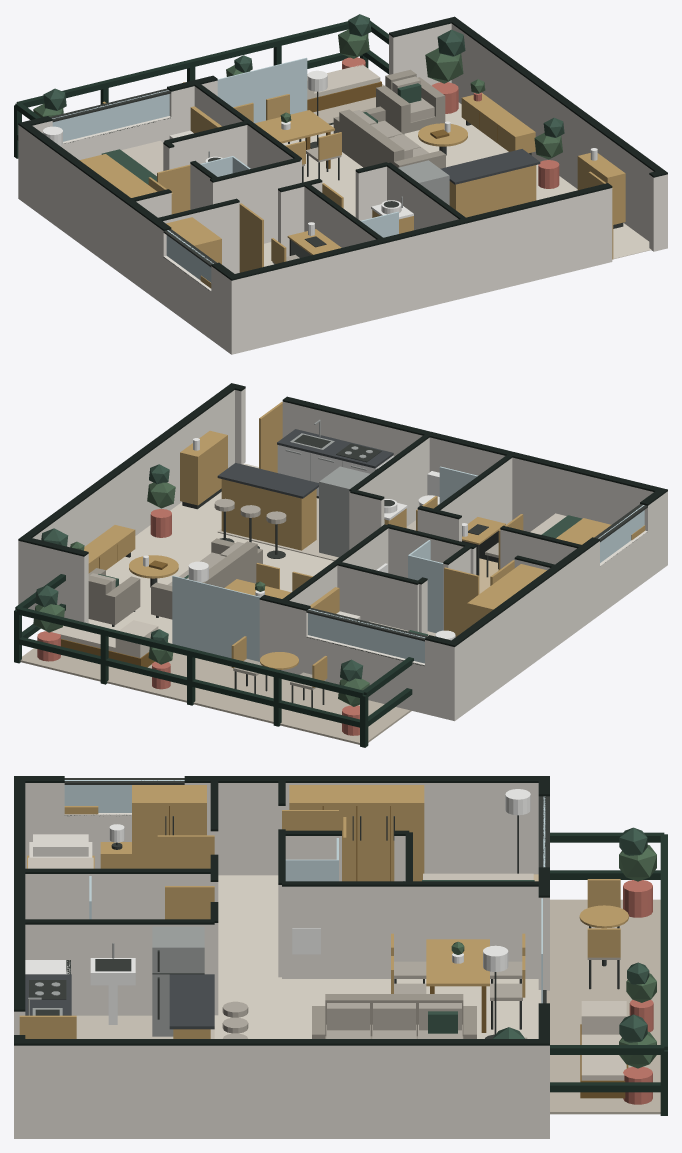
The model's file is interior-tipo-a-simples.glb.
The picture shows the model from 3 angles, top to bottom: view 1: azimuth 30°, elevation 25°; view 2: azimuth 150°, elevation 25°; view 3: azimuth 270°, elevation 25°; orthographic projection. The views are drawn at different scales.
Parts seen in each view (by area): view 1: VIS__INTA_PAREDE, VIS__INTA_MADEIRA, VIS__INTA_CORTE, VIS__INTA_VIDRO, VIS__INTA_PISO, VIS__INTA_ESTOFADO, VIS__INTA_GUARDACORPO, VIS__INTA_SALVIA, VIS__INTA_FOLHA, VIS__INTA_ESCURO, VIS__INTA_TECIDO2, VIS__INTA_ESTOFADO2 (+6 smaller); view 2: VIS__INTA_PAREDE, VIS__INTA_MADEIRA, VIS__INTA_VIDRO, VIS__INTA_CORTE, VIS__INTA_GUARDACORPO, VIS__INTA_VARANDA, VIS__INTA_PISO, VIS__INTA_ESTOFADO, VIS__INTA_ESCURO, VIS__INTA_BRANCO, VIS__INTA_INOX, VIS__INTA_BANCADA (+7 smaller); view 3: VIS__INTA_PAREDE, VIS__INTA_MADEIRA, VIS__INTA_CORTE, VIS__INTA_PISO, VIS__INTA_VARANDA, VIS__INTA_ESTOFADO2, VIS__INTA_GUARDACORPO, VIS__INTA_TECIDO2, VIS__INTA_ESCURO, VIS__INTA_BRANCO, VIS__INTA_INOX, VIS__INTA_VIDRO (+8 smaller).
Part boxes in pixels (x1,y1,x2,y2): VIS__INTA_PAREDE: [18, 23, 667, 354]; VIS__INTA_MADEIRA: [79, 82, 625, 288]; VIS__INTA_CORTE: [18, 16, 667, 290]; VIS__INTA_VIDRO: [52, 57, 398, 282]; VIS__INTA_PISO: [264, 102, 651, 266]; VIS__INTA_ESTOFADO: [333, 69, 445, 168]; VIS__INTA_GUARDACORPO: [14, 21, 388, 158]; VIS__INTA_SALVIA: [43, 14, 564, 184]; VIS__INTA_FOLHA: [33, 29, 562, 159]; VIS__INTA_ESCURO: [50, 88, 623, 267]; VIS__INTA_TECIDO2: [121, 64, 380, 175]; VIS__INTA_ESTOFADO2: [272, 76, 434, 264]; VIS__INTA_PAREDE: [18, 388, 667, 721]; VIS__INTA_MADEIRA: [84, 402, 645, 687]; VIS__INTA_VIDRO: [172, 466, 644, 663]; VIS__INTA_CORTE: [18, 383, 667, 665]; VIS__INTA_GUARDACORPO: [14, 574, 413, 747]; VIS__INTA_VARANDA: [20, 648, 411, 744]; VIS__INTA_PISO: [88, 463, 333, 643]; VIS__INTA_ESTOFADO: [88, 538, 262, 625]; VIS__INTA_ESCURO: [112, 434, 647, 707]; VIS__INTA_BRANCO: [143, 438, 467, 640]; VIS__INTA_INOX: [285, 419, 372, 557]; VIS__INTA_BANCADA: [217, 429, 393, 498]; VIS__INTA_PAREDE: [14, 783, 549, 1138]; VIS__INTA_MADEIRA: [19, 785, 628, 1038]; VIS__INTA_CORTE: [14, 776, 549, 1045]; VIS__INTA_PISO: [214, 875, 541, 1038]; VIS__INTA_VARANDA: [546, 899, 660, 1114]; VIS__INTA_ESTOFADO2: [222, 957, 620, 1038]; VIS__INTA_GUARDACORPO: [550, 832, 667, 1115]; VIS__INTA_TECIDO2: [28, 857, 626, 1080]; VIS__INTA_ESCURO: [29, 778, 619, 1038]; VIS__INTA_BRANCO: [25, 789, 530, 1024]; VIS__INTA_INOX: [28, 880, 404, 1036]; VIS__INTA_VIDRO: [64, 780, 545, 1003].
Bounding box in the file's own units: 8.45 × 1.52 × 8.72.
